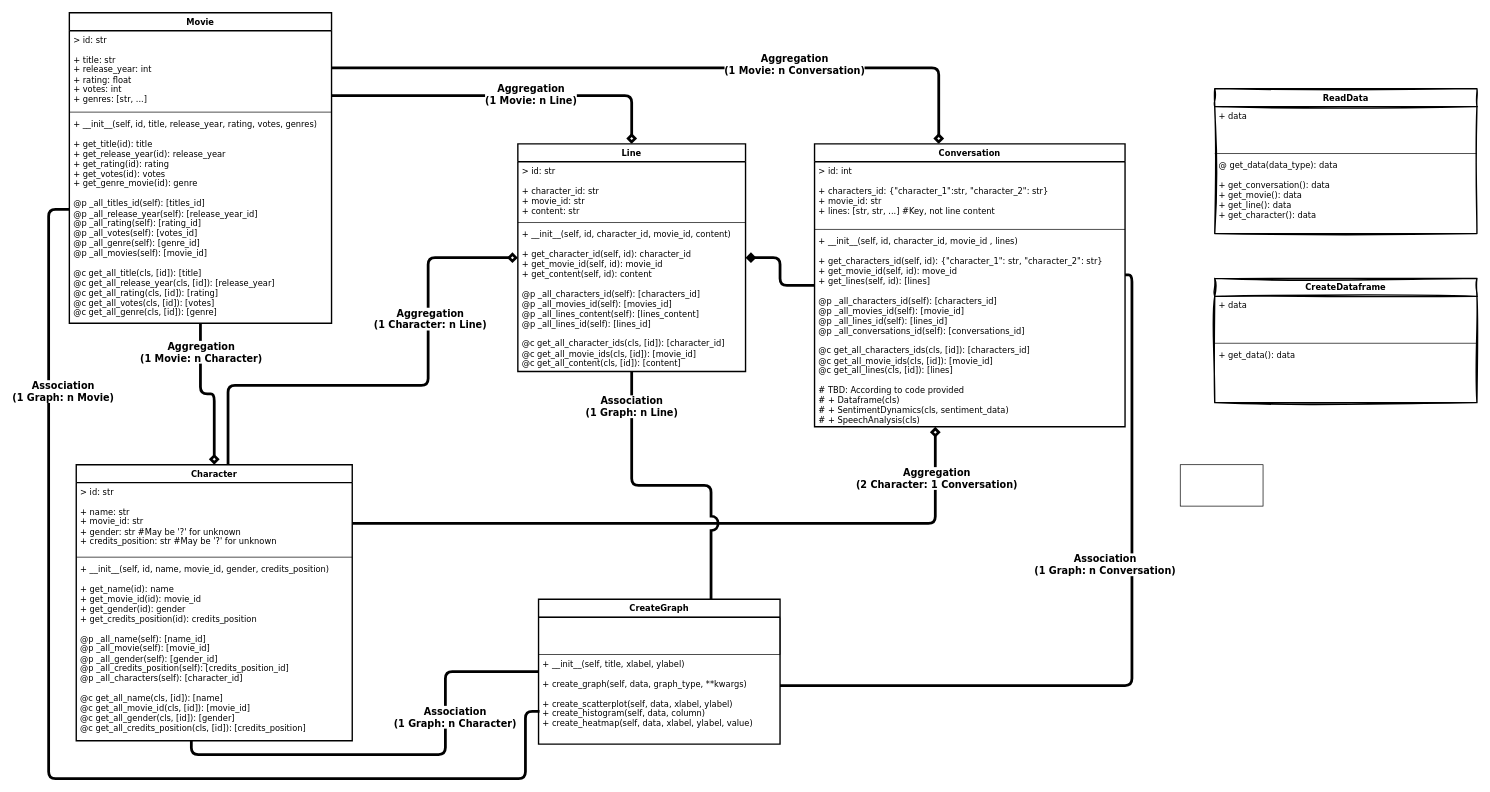
Image size: 1490x792. Some labels were removed from this diagram. The centre of each missing label's shape, as x and y in pixels:
"+ title: str + xlabel: str + ylabel: str" belongs at [659,635].
"Légende: - @: par convention, ce symbloe signigique" belongs at [1221,485].
